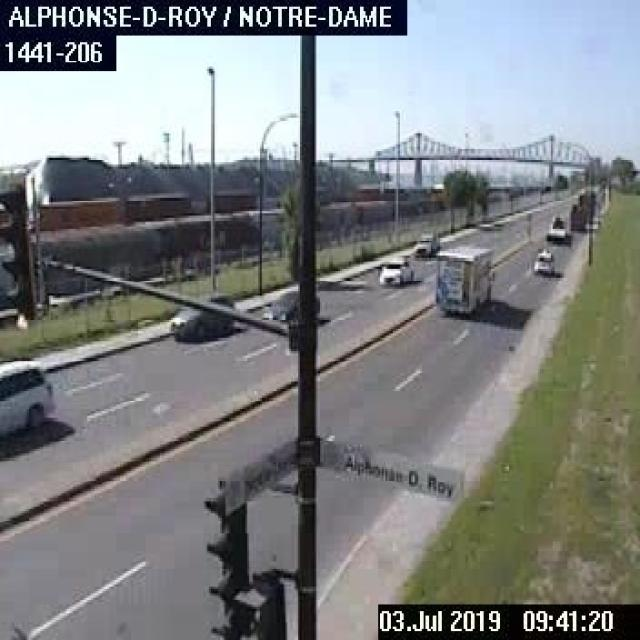vehicle: (431, 241, 495, 317), (0, 353, 56, 435), (167, 302, 231, 344), (262, 288, 322, 322), (377, 254, 415, 287), (544, 214, 571, 242), (411, 231, 439, 255), (531, 249, 554, 275)
